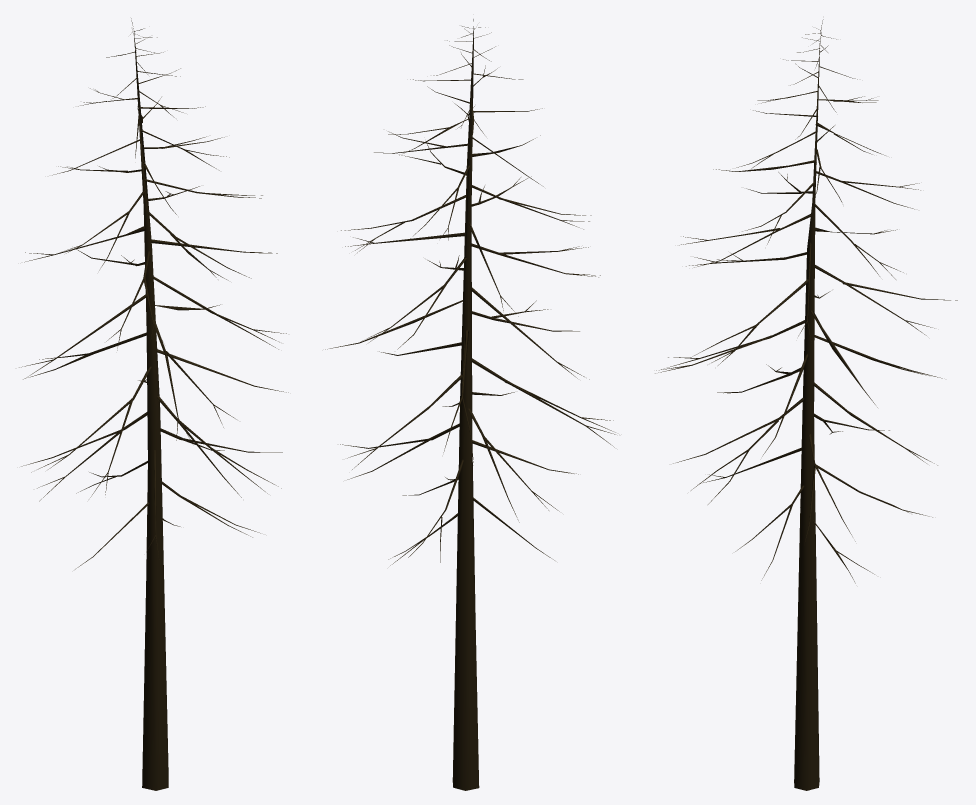
File: FirLOD0Trunk.fbx
3 renders of one model, left to right at view 1: azimuth 30°, elevation 25°; view 2: azimuth 150°, elevation 25°; view 3: azimuth 270°, elevation 25°, orthographic. The views are drawn at different scales.
Visible parts, largest first — view 1: FirLOD0; view 2: FirLOD0; view 3: FirLOD0.
Part boxes in pixels (x1=…): FirLOD0: x1=19, y1=18, x2=288, y2=790; FirLOD0: x1=325, y1=19, x2=615, y2=790; FirLOD0: x1=655, y1=19, x2=957, y2=790.
Size of the model in its own units: 1690 by 4621 by 1706.
